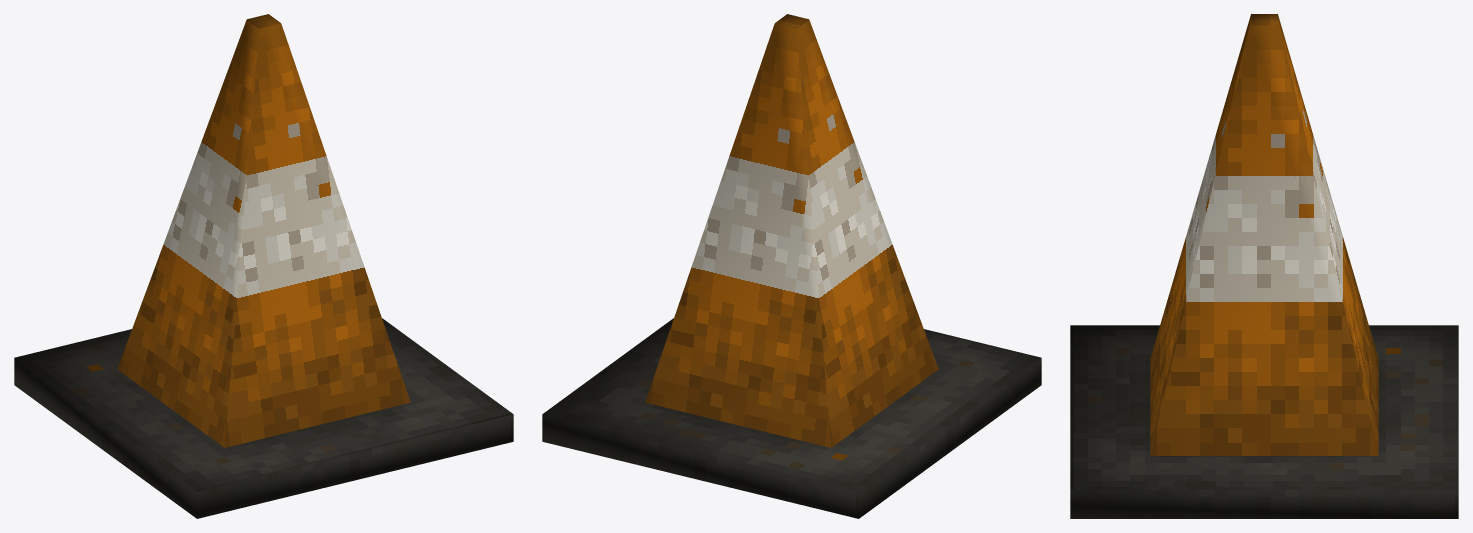
File: trafficcone.fbx
3 renders of one model, left to right at view 1: azimuth 30°, elevation 25°; view 2: azimuth 150°, elevation 25°; view 3: azimuth 270°, elevation 25°, orthographic. The views are drawn at different scales.
Parts seen in each view (by area): view 1: trafficcone; view 2: trafficcone; view 3: trafficcone.
Boxes of the visible parts, <box> form: trafficcone: <box>14,14,513,518</box>; trafficcone: <box>542,14,1041,518</box>; trafficcone: <box>1070,14,1458,518</box>.
Size of the model in its own units: 60.1 by 60.1 by 71.19.
1 material, 1 textured.
